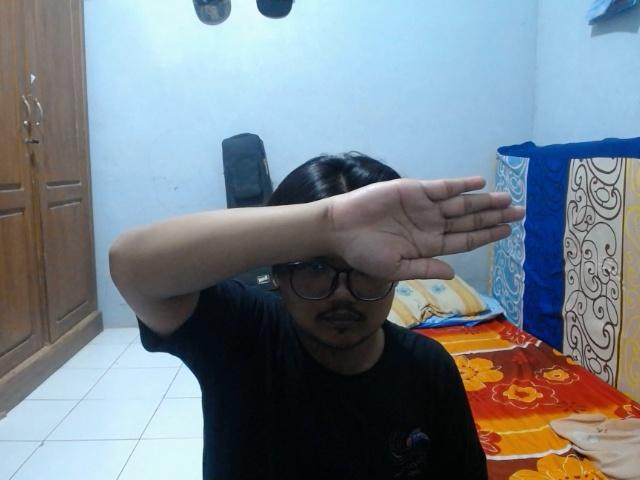Release: (324, 172, 528, 284)
